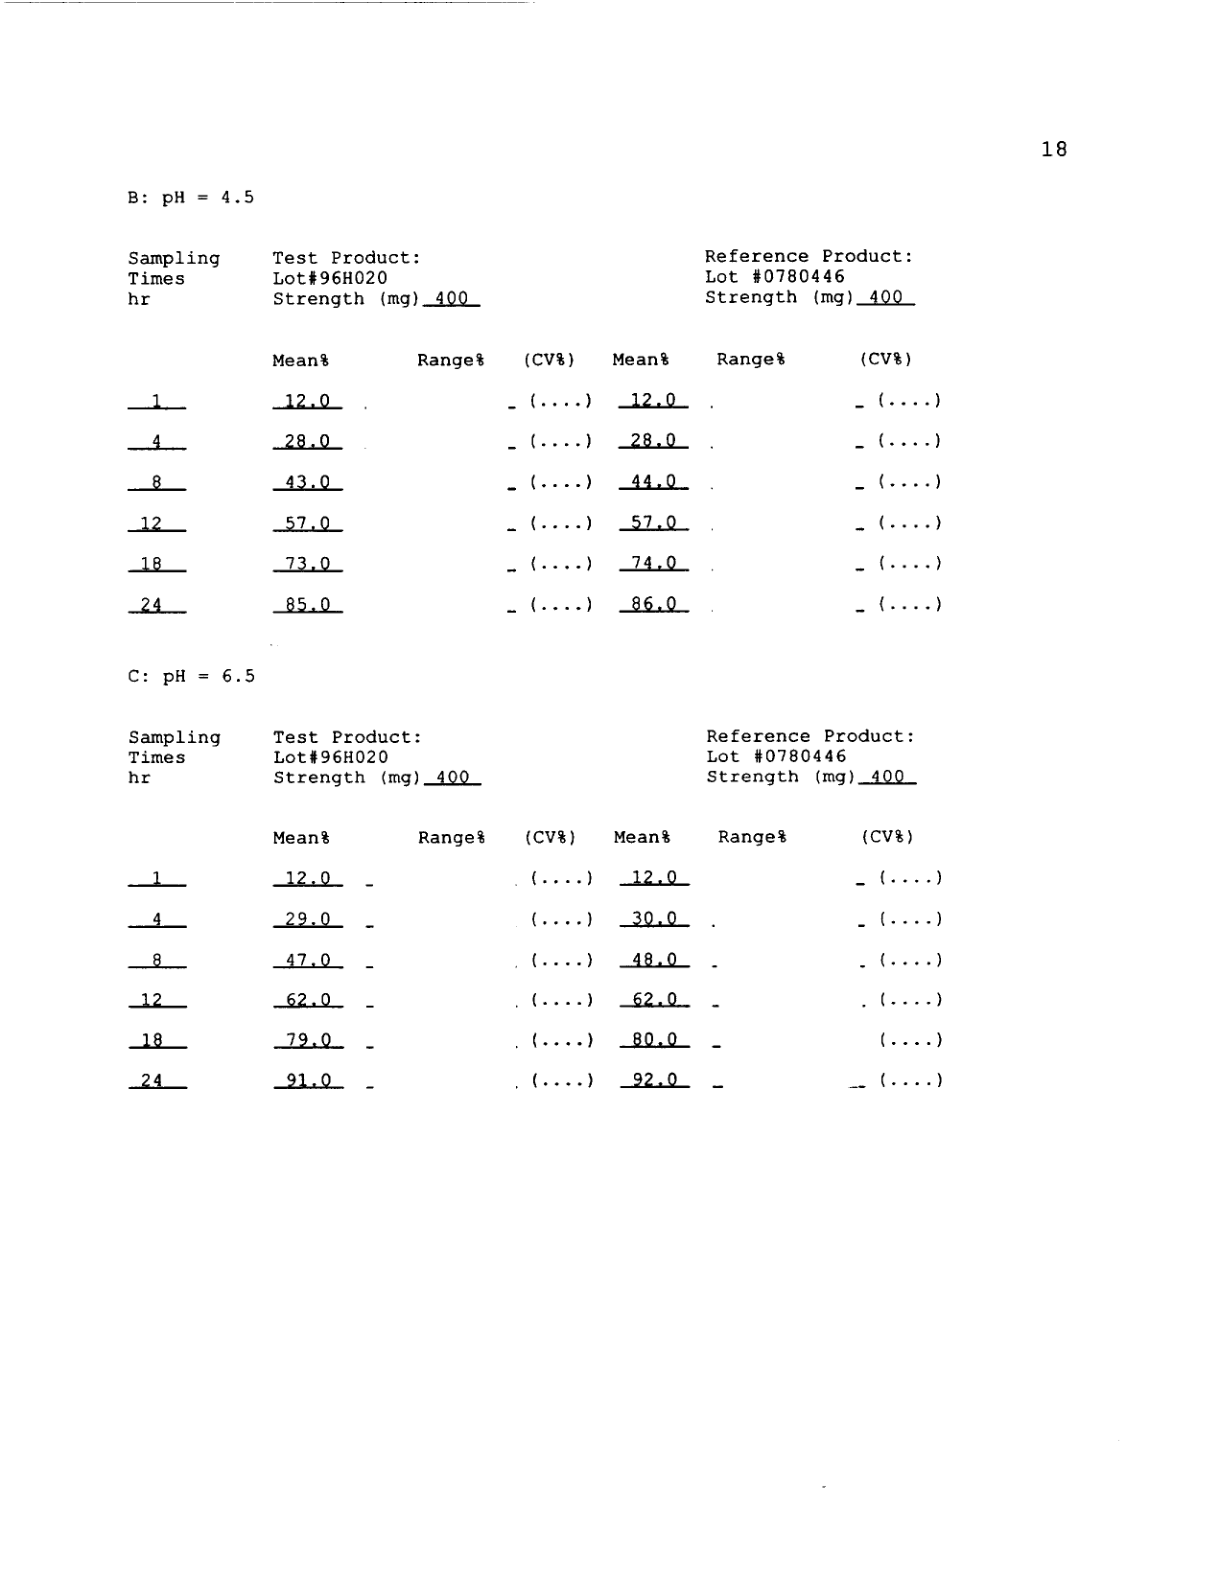nolines: (123, 240, 948, 617), (125, 727, 948, 1099)
